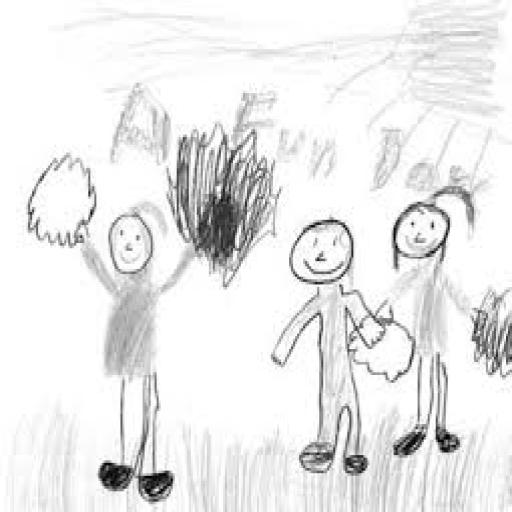person: (23, 144, 215, 507), (271, 214, 393, 482), (378, 184, 481, 462)
